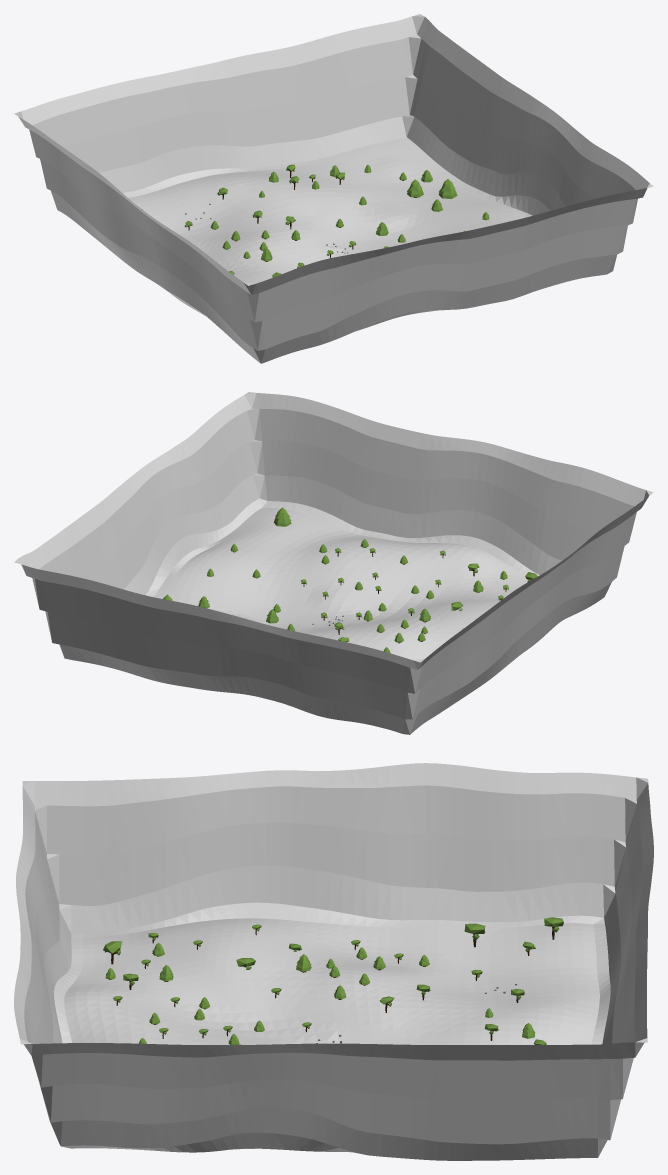
File: props.dae
3 views of the same model, one above another, from view 1: azimuth 30°, elevation 25°; view 2: azimuth 150°, elevation 25°; view 3: azimuth 270°, elevation 25° (orthographic). The views are drawn at different scales.
Parts seen in each view (by area): view 1: Plane; view 2: Plane; view 3: Plane.
Boxes of the visible parts, x1,y1,x2,y2 form: Plane: (14,14,653,363); Plane: (14,392,653,734); Plane: (14,763,653,1160).
Size of the model in its own units: 1021 by 1025 by 270.
